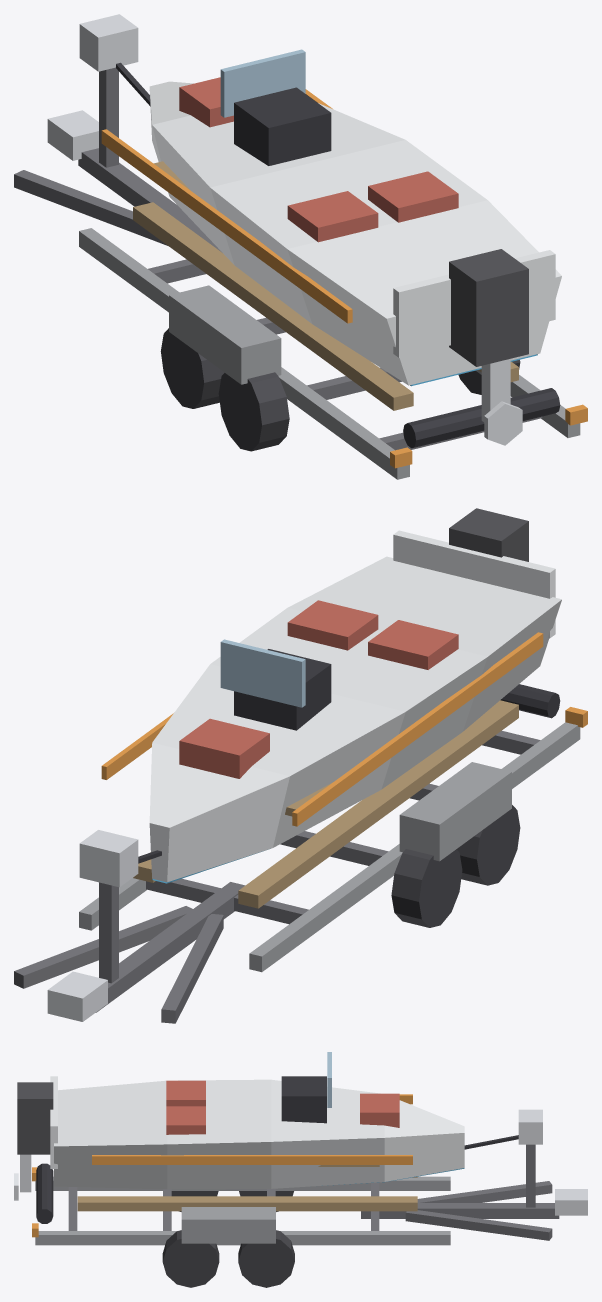
Rendered from boat-and-trailer.glb.
3 renders of one model, top to bottom at view 1: azimuth 30°, elevation 25°; view 2: azimuth 150°, elevation 25°; view 3: azimuth 270°, elevation 25°, orthographic. The views are drawn at different scales.
Parts seen in each view (by area): view 1: BAT_Hull, BAT_BunkL, BAT_Motor, BAT_TFenderL, BAT_Transom, BAT_Console, BAT_RailL, BAT_StripeL, BAT_TWB_L, BAT_BoatGlass, BAT_Roller, BAT_Seat2 (+13 smaller); view 2: BAT_Hull, BAT_BunkL, BAT_TFenderL, BAT_RailL, BAT_Transom, BAT_StripeL, BAT_TWA_L, BAT_BoatGlass, BAT_Tongue, BAT_Seat1, BAT_Console, BAT_TWB_L (+14 smaller); view 3: BAT_Hull, BAT_BunkR, BAT_RailR, BAT_TFenderR, BAT_StripeR, BAT_Motor, BAT_TWB_R, BAT_TWA_R, BAT_Tongue, BAT_Console, BAT_RailL, BAT_AFrameR (+11 smaller).
Part boxes in pixels (bbox=[...]): BAT_Hull: bbox=[149, 81, 561, 385]; BAT_BunkL: bbox=[133, 202, 413, 410]; BAT_Motor: bbox=[449, 249, 528, 366]; BAT_TFenderL: bbox=[169, 285, 281, 384]; BAT_Transom: bbox=[393, 250, 555, 357]; BAT_Console: bbox=[234, 87, 331, 165]; BAT_RailL: bbox=[79, 228, 409, 479]; BAT_StripeL: bbox=[101, 129, 352, 323]; BAT_TWB_L: bbox=[218, 372, 289, 451]; BAT_BoatGlass: bbox=[220, 49, 305, 117]; BAT_Roller: bbox=[403, 388, 560, 448]; BAT_Seat2: bbox=[287, 191, 378, 242]; BAT_Hull: bbox=[149, 556, 561, 882]; BAT_BunkL: bbox=[238, 700, 518, 908]; BAT_TFenderL: bbox=[399, 762, 511, 861]; BAT_RailL: bbox=[249, 722, 580, 972]; BAT_Transom: bbox=[393, 530, 555, 638]; BAT_StripeL: bbox=[292, 632, 543, 826]; BAT_TWA_L: bbox=[391, 849, 462, 927]; BAT_BoatGlass: bbox=[220, 639, 305, 707]; BAT_Tongue: bbox=[96, 882, 245, 1012]; BAT_Seat1: bbox=[179, 718, 269, 778]; BAT_Console: bbox=[234, 649, 331, 730]; BAT_TWB_L: bbox=[456, 805, 520, 885]; BAT_Hull: bbox=[54, 1079, 464, 1189]; BAT_BunkR: bbox=[77, 1196, 417, 1211]; BAT_RailR: bbox=[35, 1231, 450, 1245]; BAT_TFenderR: bbox=[181, 1207, 275, 1243]; BAT_StripeR: bbox=[92, 1155, 412, 1164]; BAT_Motor: bbox=[17, 1082, 53, 1154]; BAT_TWB_R: bbox=[162, 1230, 219, 1287]; BAT_TWA_R: bbox=[238, 1230, 294, 1287]; BAT_Tongue: bbox=[361, 1203, 559, 1218]; BAT_Console: bbox=[281, 1076, 326, 1123]; BAT_RailL: bbox=[35, 1176, 450, 1190]; BAT_AFrameR: bbox=[405, 1210, 552, 1240].
Bounding box in the file's own units: 2.16 × 2.13 × 6.08.
